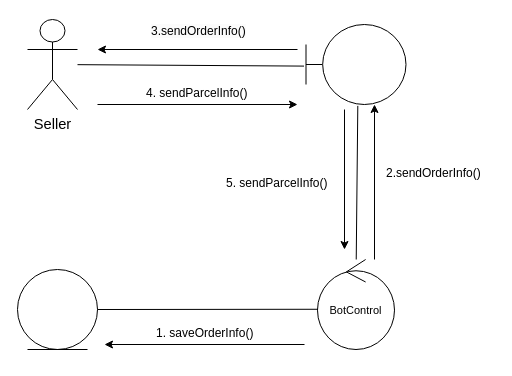
Some shapes in this 512 by 376 pixel diagram are drawn without their labels. The box of each missing label's shape, as (x1, y1, x2, y2) in pixels:
ResourcesData: (16, 268, 98, 350)
SellerApplication: (305, 24, 406, 104)
